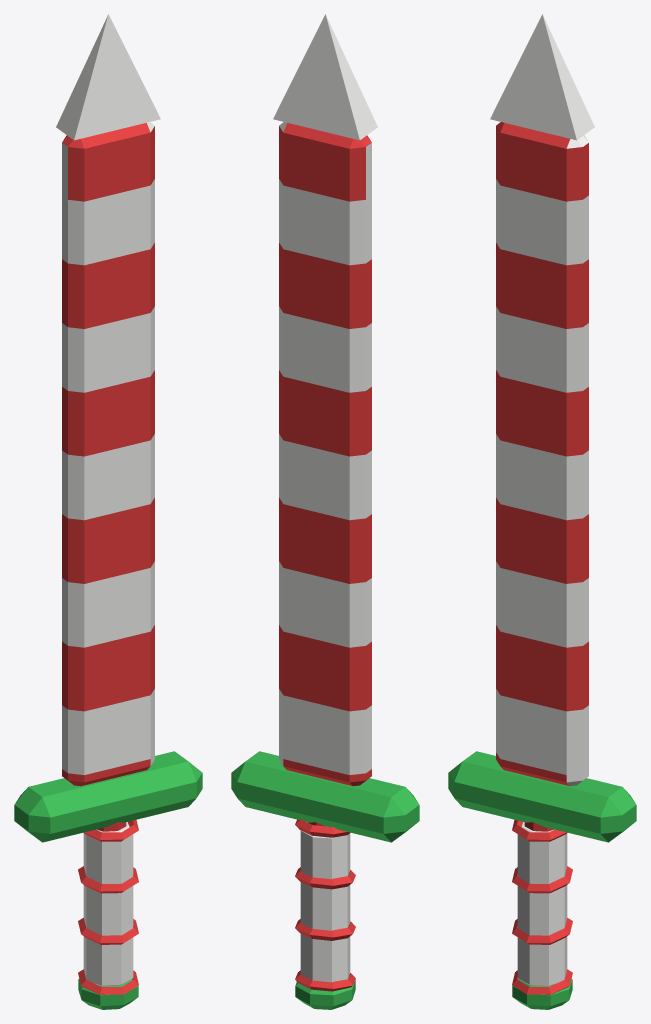
File: CandyCaneSword.fbx
The picture shows the model from 3 angles, left to right: view 1: azimuth 30°, elevation 25°; view 2: azimuth 150°, elevation 25°; view 3: azimuth 330°, elevation 25°; orthographic projection.
Parts seen in each view (by area): view 1: CandyCaneSword; view 2: CandyCaneSword; view 3: CandyCaneSword.
Boxes of the visible parts, x1,y1,x2,y2 form: CandyCaneSword: (14, 14, 202, 1009); CandyCaneSword: (231, 14, 419, 1009); CandyCaneSword: (448, 14, 636, 1009).
Bounding box in the file's own units: 1 × 5.42 × 0.3129.
1 material, 1 textured.
